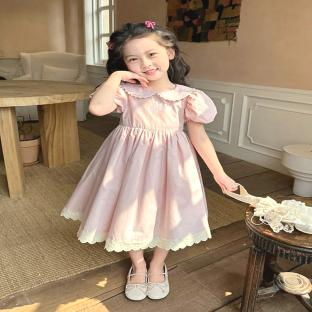Human: (61, 21, 237, 300)
